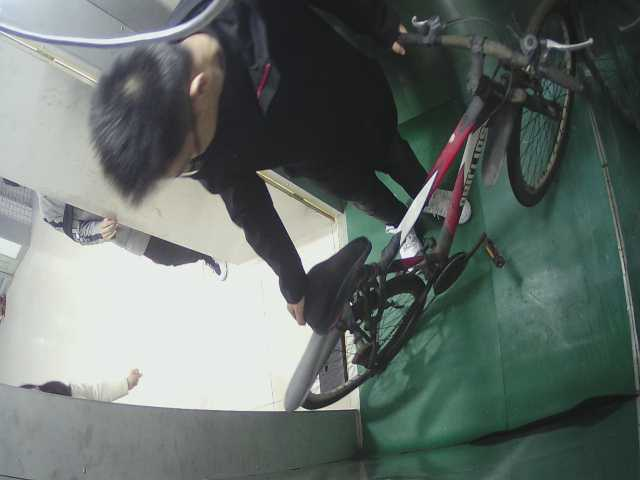bicycle: (273, 2, 583, 426)
person: (82, 2, 437, 264)
